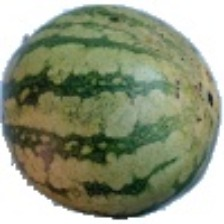watermelon: (26, 24, 221, 224)
